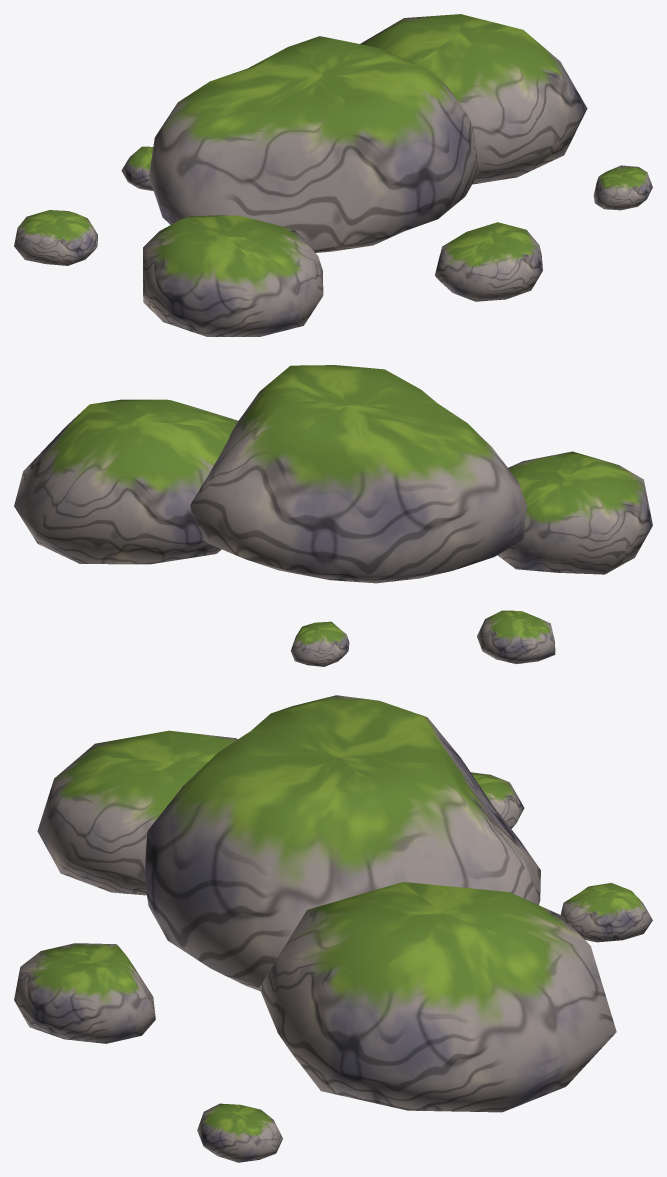
File: cailloux.glb
The picture shows the model from 3 angles, top to bottom: view 1: azimuth 30°, elevation 25°; view 2: azimuth 150°, elevation 25°; view 3: azimuth 270°, elevation 25°; orthographic projection. The views are drawn at different scales.
Visible parts, largest first — view 1: cailloux; view 2: cailloux; view 3: cailloux.
Boxes of the visible parts, box(x1,y1,x2,y2) form: cailloux: box(14, 14, 652, 336); cailloux: box(14, 365, 652, 666); cailloux: box(14, 695, 652, 1162).
Size of the model in its own units: 1.03 by 0.2945 by 0.7688.
Materials: 1 (1 with a texture image).
